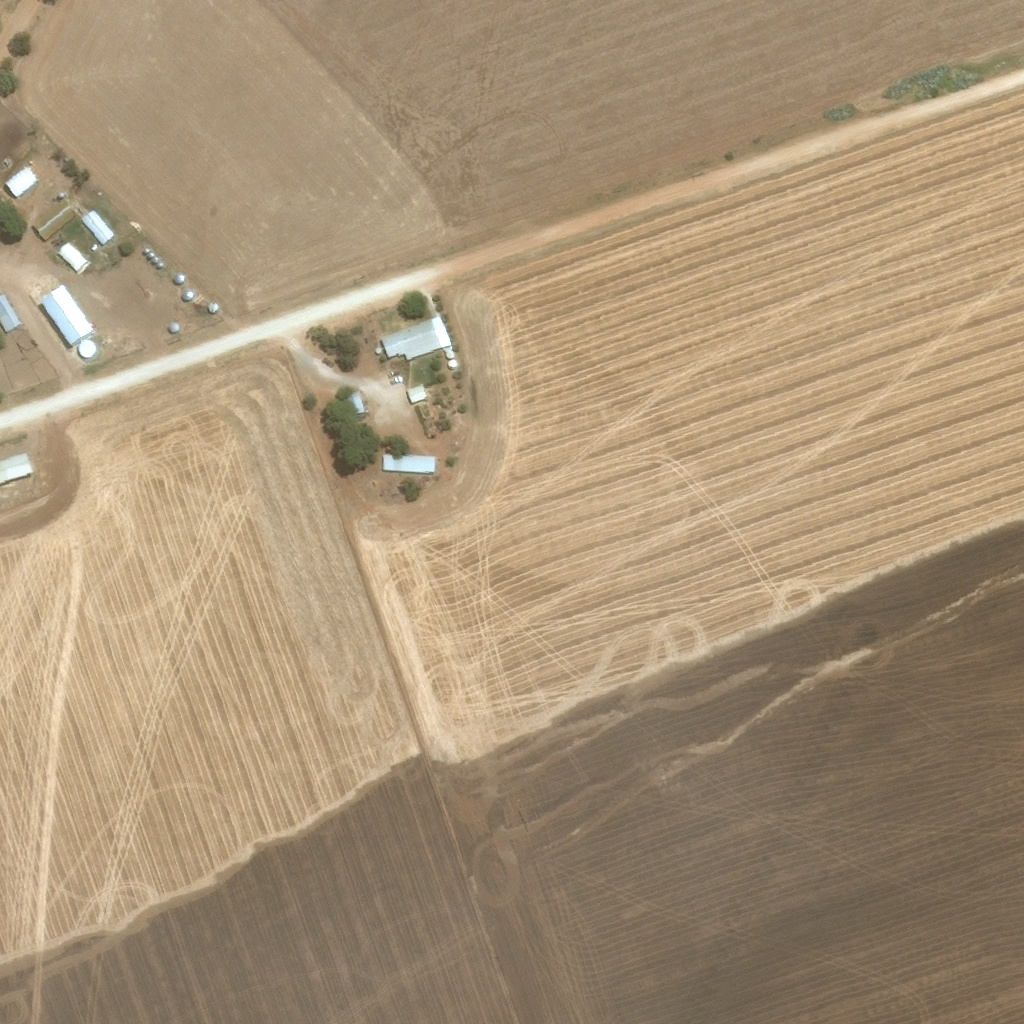0 no-damage: (39, 284, 94, 346), (380, 315, 451, 362), (33, 200, 77, 241), (80, 211, 113, 247), (380, 454, 434, 475), (4, 166, 38, 199), (0, 453, 32, 483), (56, 242, 86, 273), (0, 296, 20, 334), (407, 384, 428, 404), (348, 392, 364, 415), (77, 342, 95, 359), (442, 347, 455, 360), (178, 319, 189, 331), (200, 303, 212, 314), (182, 287, 193, 299), (172, 281, 183, 293), (161, 270, 172, 282), (150, 255, 158, 263), (146, 250, 154, 258), (373, 348, 381, 355), (155, 262, 162, 268), (143, 247, 149, 253)
